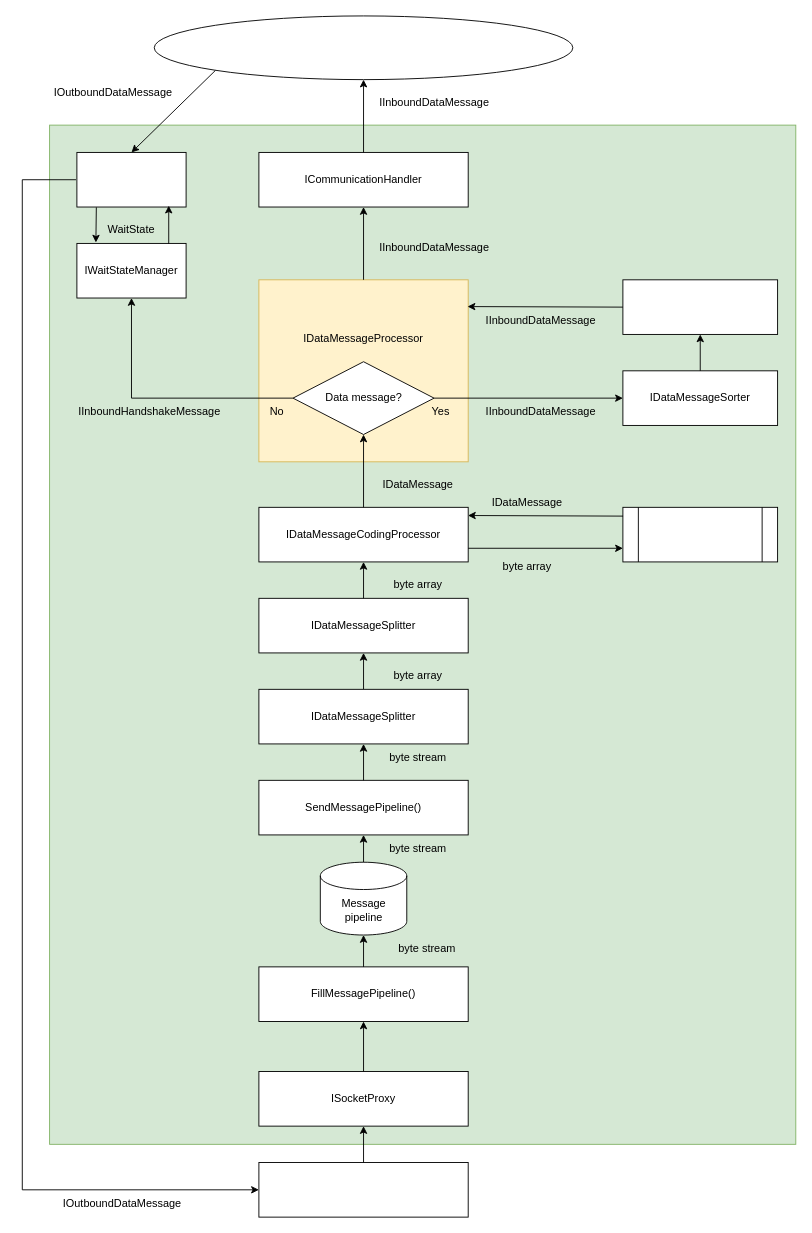
The diagram is 812 pixels wide and 1233 high, and some of its shapes have lost their labels. Here are the shapes that lost their labels. From the top down, the box of each, then its label:
(153, 15, 573, 80): Business logic, order management or state management
(76, 152, 186, 207): IDuplexIoSender
(622, 279, 778, 334): IDataMessageLogger
(622, 506, 778, 562): IDataMessageCodec IDataBlockCodec
(258, 1162, 468, 1217): Device
